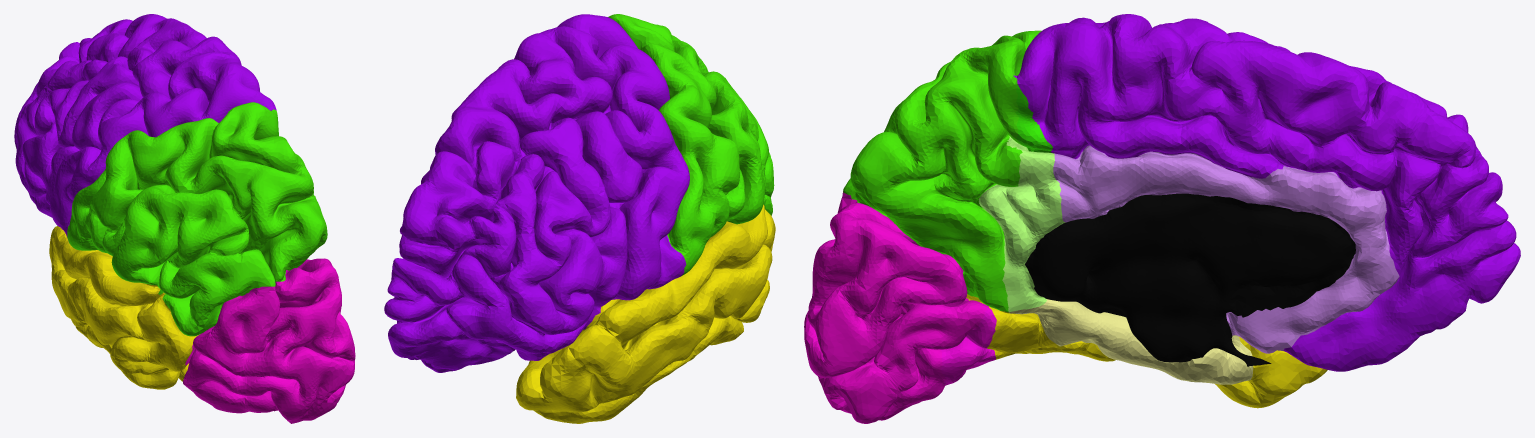
File: color_coded_labeled_major_lobes_of_the_brain_old.glb
3 renders of one model, left to right at view 1: azimuth 30°, elevation 25°; view 2: azimuth 150°, elevation 25°; view 3: azimuth 270°, elevation 25°, orthographic. The views are drawn at different scales.
Visible parts, largest first — view 1: Parietal Lobe, Frontal Lobe, Occipital Lobe, Temporal Lobe; view 2: Frontal Lobe, Temporal Lobe, Parietal Lobe; view 3: Frontal Lobe, Corpus Callosum, Parietal Lobe, Occipital Lobe, Frontal2, Temporal Limbic, Temporal Lobe, Parietal2, Frontal3, Occipital2, Parietal Limbic, Parietal3.
Part boxes in pixels (x1,y1,x2,y2): Parietal Lobe: [67, 102, 327, 336]; Frontal Lobe: [14, 14, 276, 237]; Occipital Lobe: [183, 258, 355, 423]; Temporal Lobe: [49, 226, 199, 389]; Frontal Lobe: [384, 14, 689, 372]; Temporal Lobe: [516, 204, 775, 423]; Parietal Lobe: [608, 14, 774, 275]; Frontal Lobe: [1013, 14, 1520, 371]; Corpus Callosum: [1025, 193, 1355, 362]; Parietal Lobe: [843, 30, 1041, 312]; Occipital Lobe: [804, 191, 988, 423]; Frontal2: [1053, 145, 1399, 312]; Temporal Limbic: [1009, 299, 1253, 384]; Temporal Lobe: [966, 294, 1327, 408]; Parietal2: [978, 136, 1065, 265]; Frontal3: [1226, 294, 1345, 353]; Occipital2: [941, 307, 996, 385]; Parietal Limbic: [1002, 251, 1046, 312]; Parietal3: [1015, 84, 1052, 152].
Size of the model in its own units: 5076 by 8329 by 13000.
